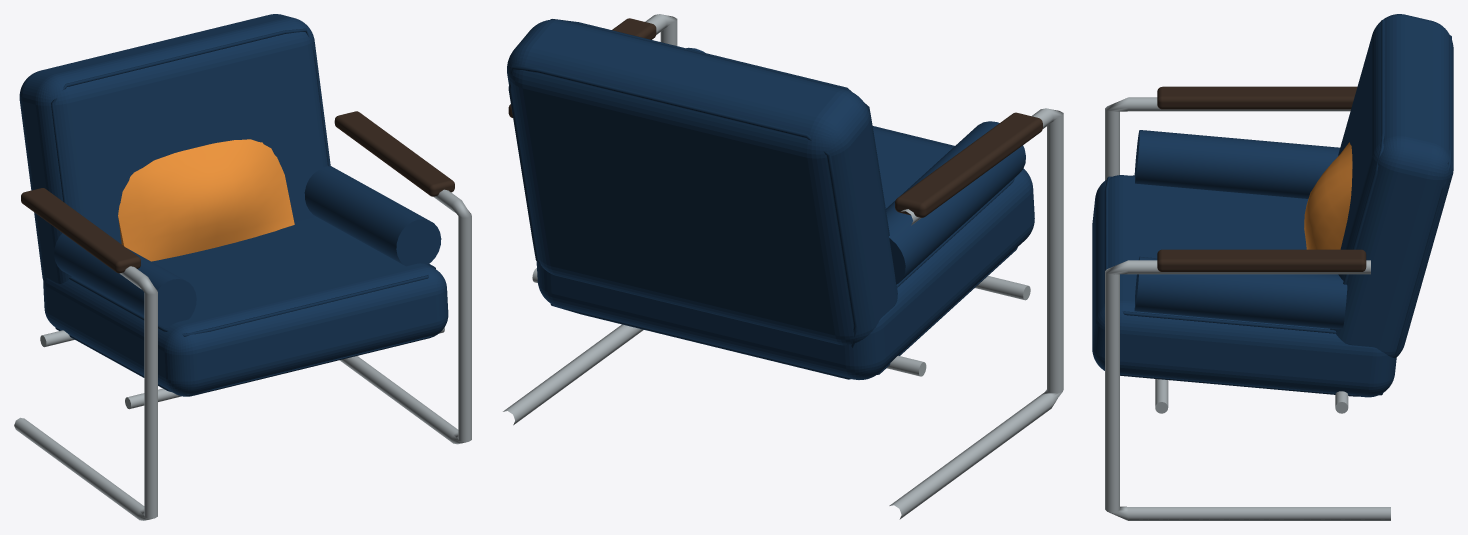
Rendered from atelier-cantilever-coast.glb.
The picture shows the model from 3 angles, left to right: view 1: azimuth 30°, elevation 25°; view 2: azimuth 150°, elevation 25°; view 3: azimuth 270°, elevation 25°; orthographic projection. The views are drawn at different scales.
Bounding box in the file's own units: 0.832 × 0.801 × 0.7221.
